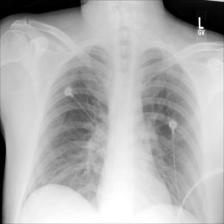normal: (19, 39, 209, 224)
